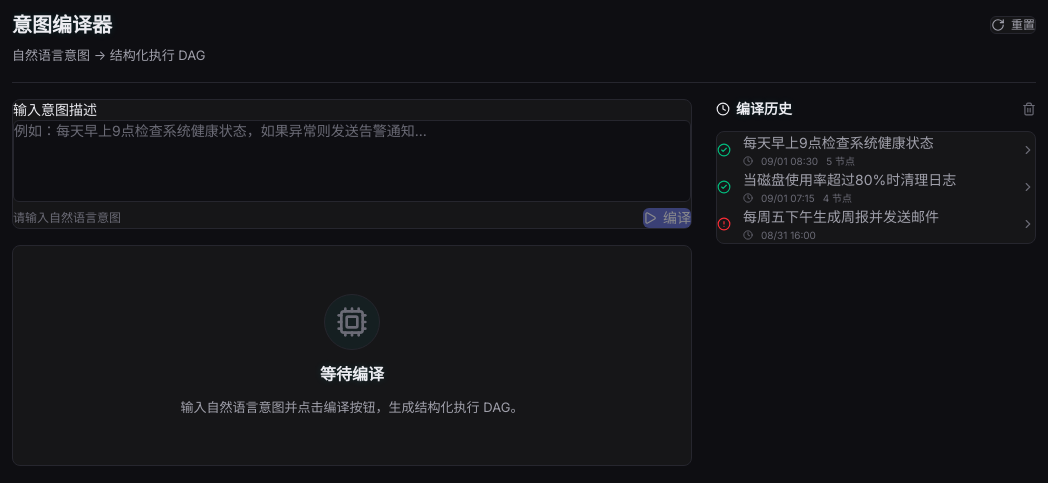
Test: IntentCompiler › interaction › clears input when reset button is clicked
In the text box with test id "intent-input": (352, 160) top-left (13, 120), bottom-right (691, 202), type "测试意图"
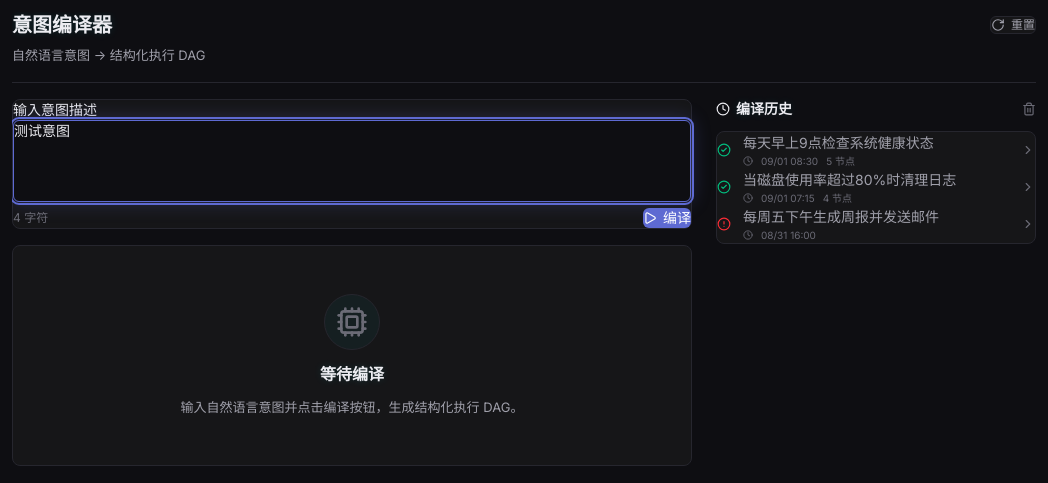
Click the button with test id "reset-btn": (1013, 25) top-left (990, 16), bottom-right (1036, 34)
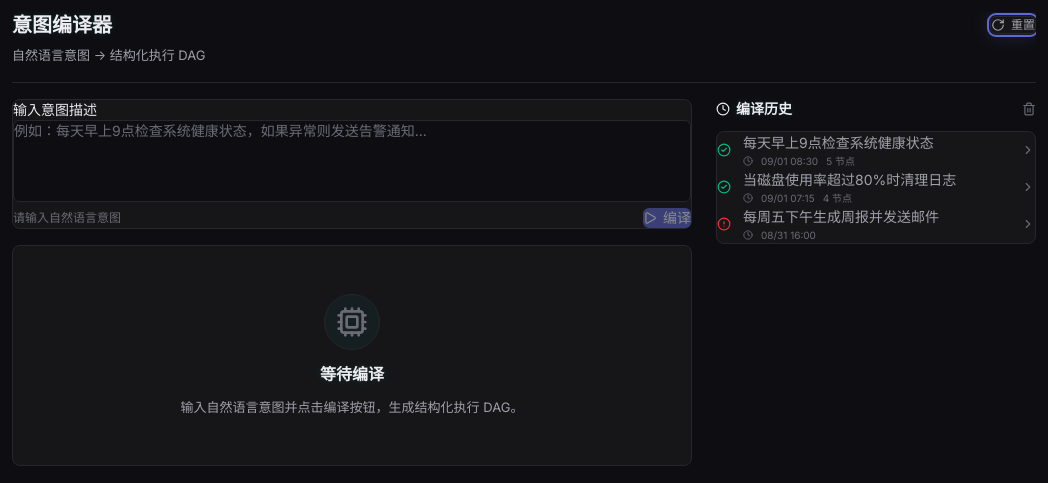
Now the text box with test id "intent-input" is empty, box top-left (13, 120), bottom-right (691, 202)
